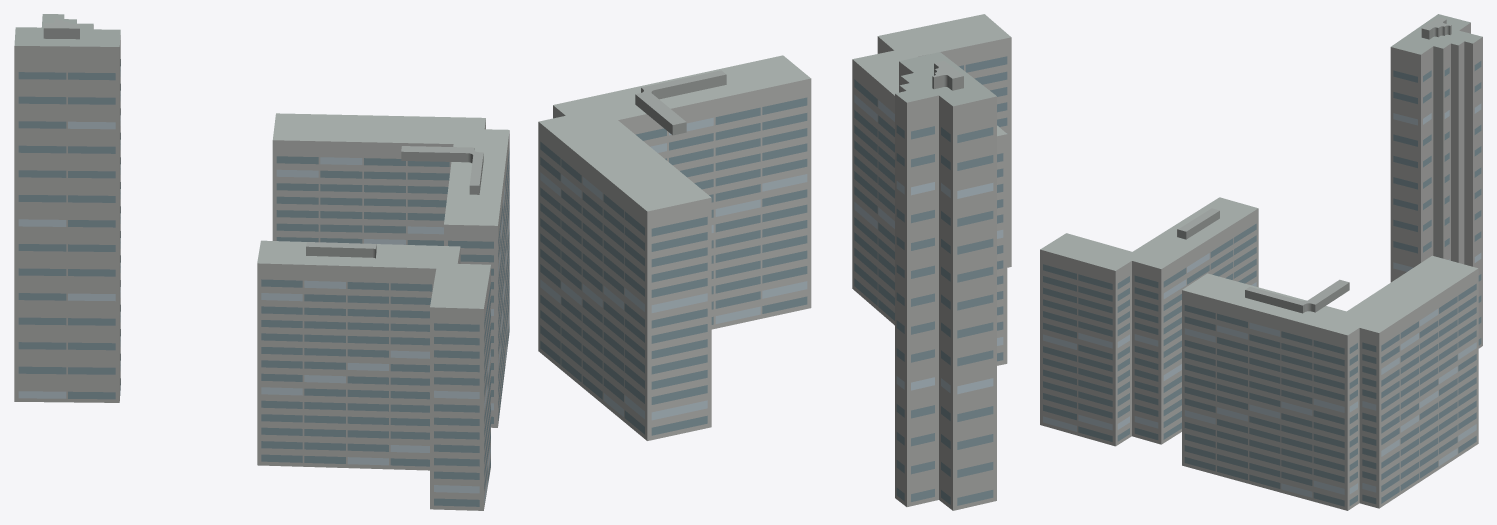
The model's file is apt-a12185603.glb.
3 renders of one model, left to right at view 1: azimuth 30°, elevation 25°; view 2: azimuth 150°, elevation 25°; view 3: azimuth 270°, elevation 25°, orthographic. The views are drawn at different scales.
Visible parts, largest first — view 1: apt-a12185603; view 2: apt-a12185603; view 3: apt-a12185603.
Boxes of the visible parts, x1,y1,x2,y2 form: apt-a12185603: (14, 14, 509, 510); apt-a12185603: (538, 14, 1011, 510); apt-a12185603: (1040, 14, 1482, 510).
Bounding box in the file's own units: 105 × 83 × 105.
